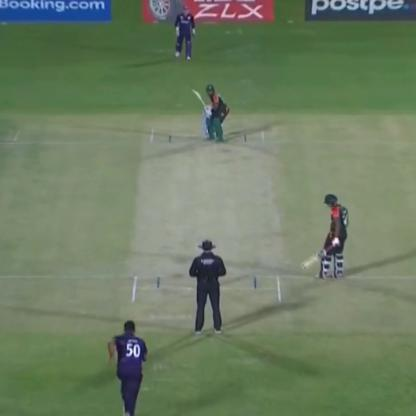pitch: (123, 120, 291, 317)
